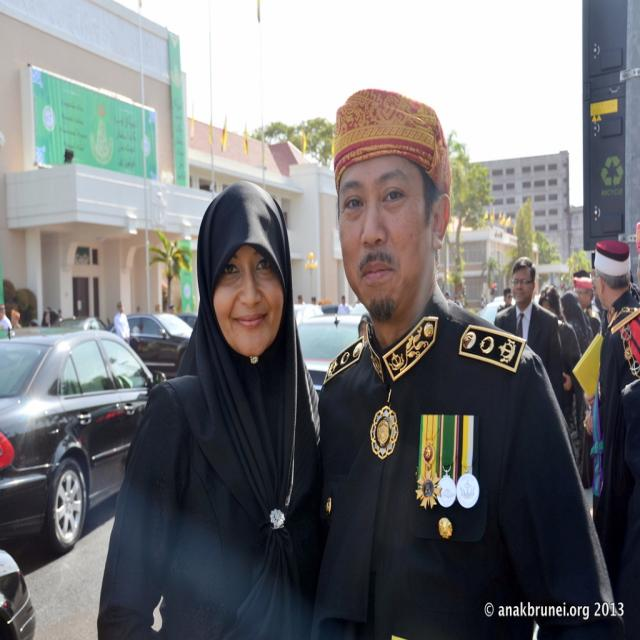car: (52, 316, 108, 329)
